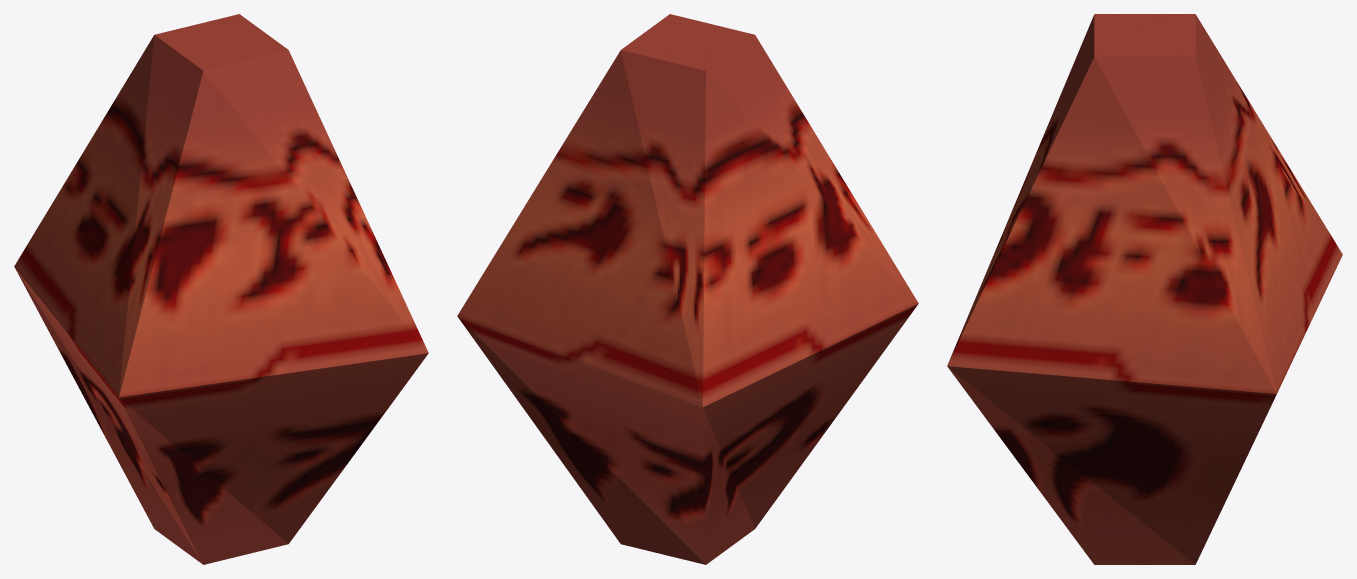
The model's file is money-lod2.glb.
3 views of the same model, side by side, from view 1: azimuth 30°, elevation 25°; view 2: azimuth 150°, elevation 25°; view 3: azimuth 270°, elevation 25° (orthographic). The views are drawn at different scales.
Parts seen in each view (by area): view 1: money-lod2; view 2: money-lod2; view 3: money-lod2.
Part boxes in pixels (box(x1,y1,x2,y2)): money-lod2: box(14, 14, 428, 564); money-lod2: box(457, 14, 918, 564); money-lod2: box(947, 14, 1342, 564).
Size of the model in its own units: 0.7126 by 1.01 by 0.7126.
Materials: 1 (1 with a texture image).
